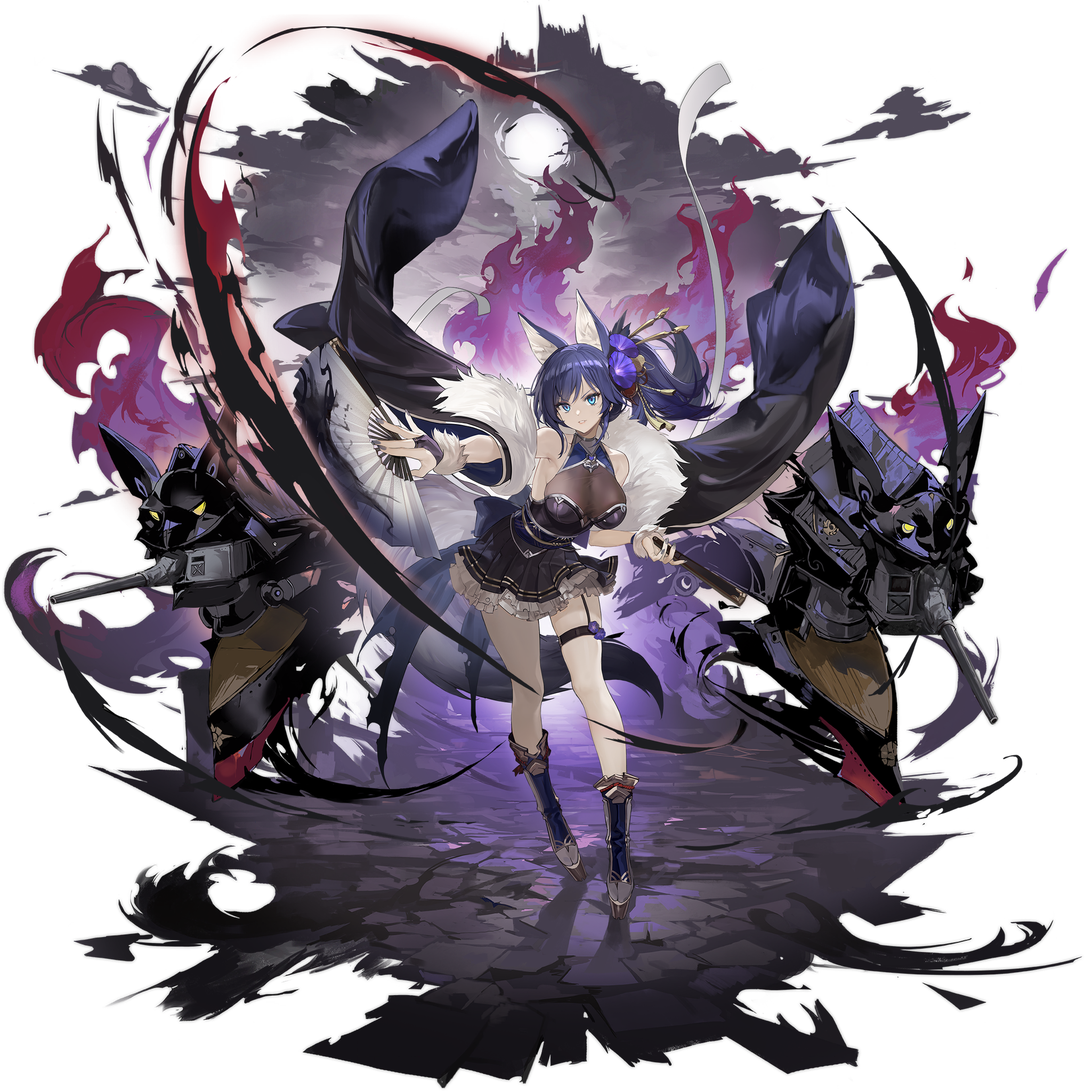person: (435, 276, 700, 947)
